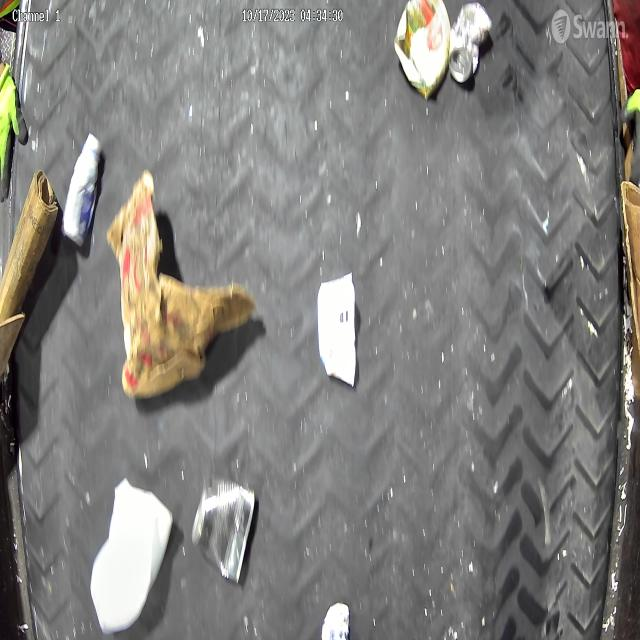can: (192, 475, 258, 587), (392, 0, 451, 101), (448, 1, 492, 82)
milk_jug: (90, 476, 174, 636)
